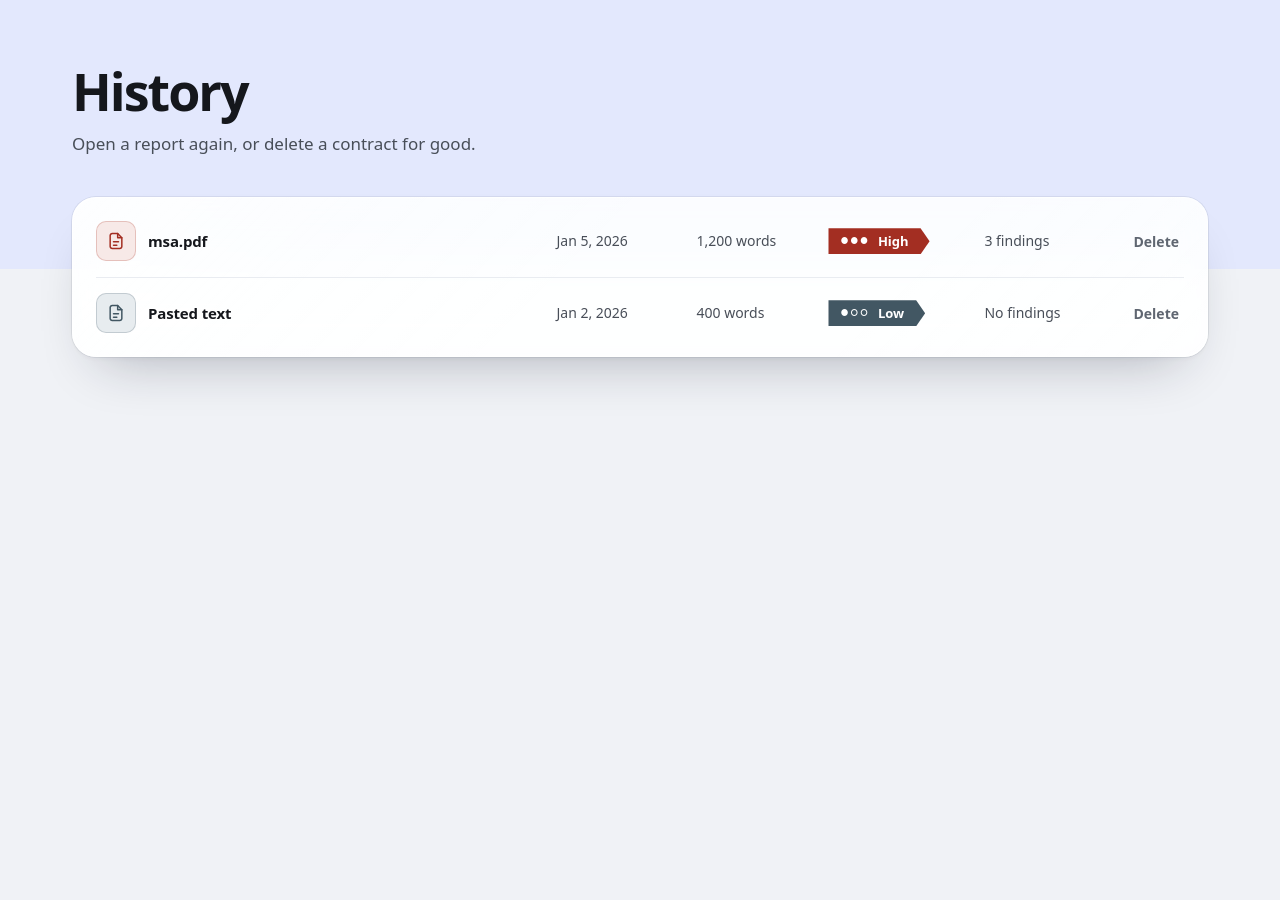
Test case: HistoryPage (BUILD-PLAN step 38, FR-4.1 / FR-7.14) › deleting a row removes it from the list without a re-fetch, and without duplicating the rest
The width and height of the screenshot is (1280, 900).
Click the button with aria-label "Delete msa.pdf" at (1156, 241), box [1120,224,1192,258]
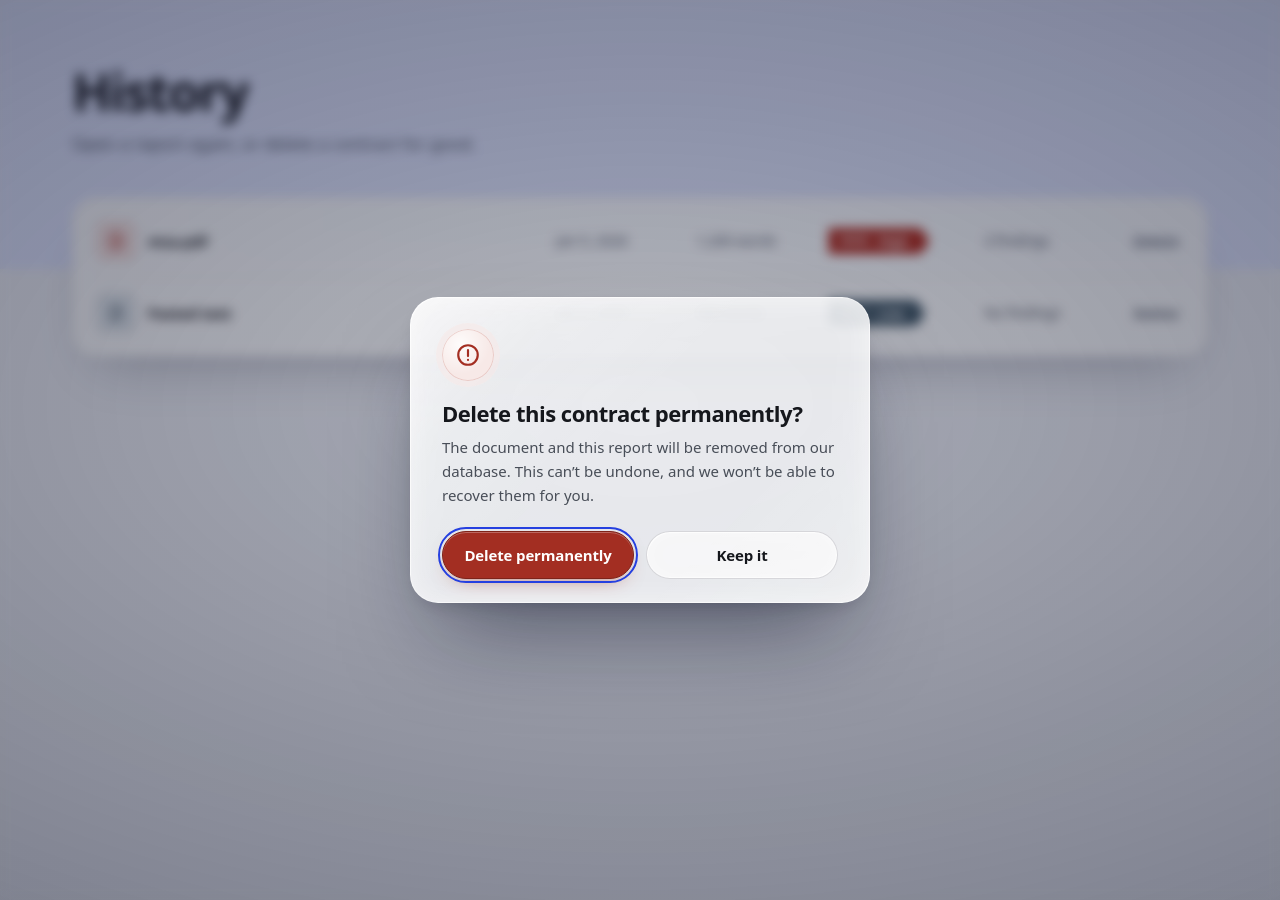
Expected: the heading "Delete this contract permanently?" is shown, [442,401,838,427]
Click the button "Delete permanently" at (538, 555), box [442,531,634,579]
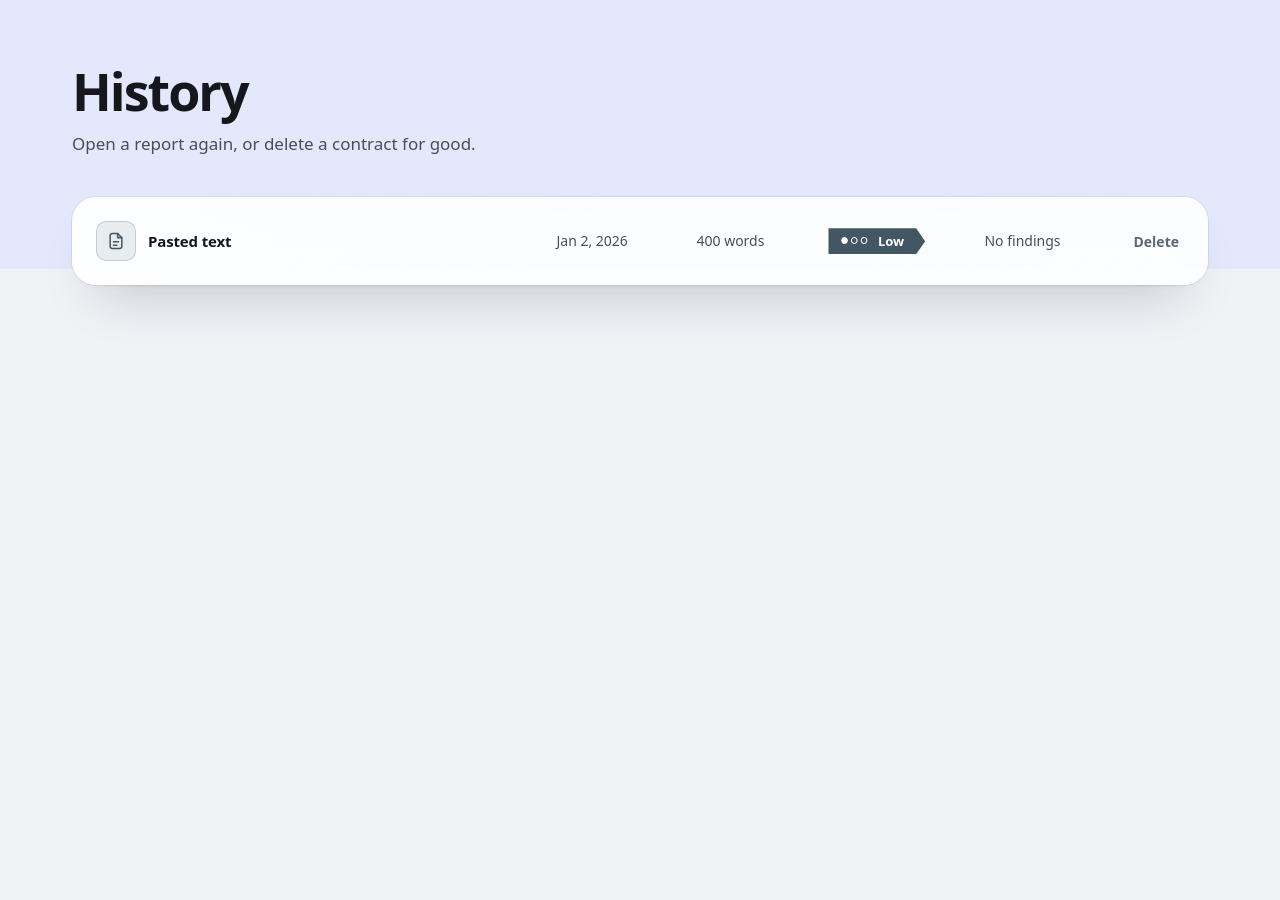
Expected: the text "Pasted text" is shown, [148,231,231,251]
Expected: the link "msa.pdf" is gone
Expected: the number of list items is 1, [148,224,1192,258]
